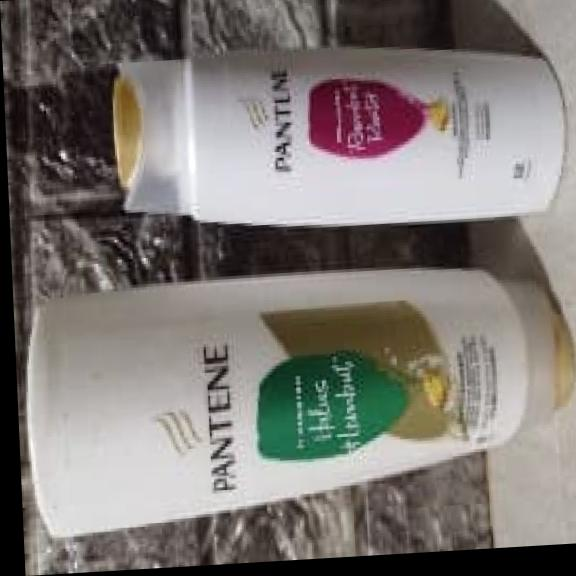Plastik: (17, 21, 576, 536)
